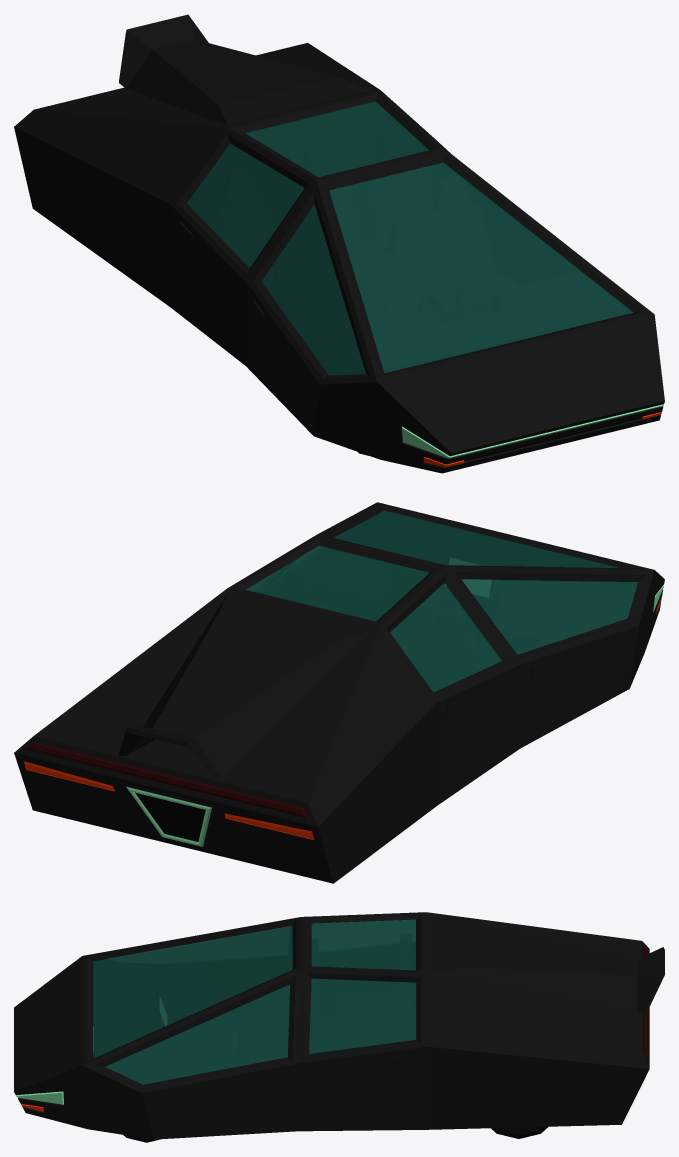
Rendered from SciFiCar_03.FBX.
3 renders of one model, top to bottom at view 1: azimuth 30°, elevation 25°; view 2: azimuth 150°, elevation 25°; view 3: azimuth 270°, elevation 25°, orthographic. The views are drawn at different scales.
Parts seen in each view (by area): view 1: SciFiCar_03, interior, seat_m-l, seat_m-r, seat_f, seat_b-r, seat_b-l, seat_b-m, headLights; view 2: SciFiCar_03, interior, seat_m-r, tailLights, seat_f, seat_m-l, backupLights, indicatorLights_r, indicatorLights_l, display; view 3: SciFiCar_03, interior, seat_f, seat_b-r, seat_b-m, seat_m-r, seat_b-l, wheel_b_l, headLights.
Boxes of the visible parts, <box> form: SciFiCar_03: <box>14,14,664,473</box>; interior: <box>187,102,632,375</box>; seat_m-l: <box>426,175,516,311</box>; seat_m-r: <box>273,214,350,333</box>; seat_f: <box>381,217,444,325</box>; seat_b-r: <box>215,164,276,292</box>; seat_b-l: <box>369,127,432,279</box>; seat_b-m: <box>292,145,381,294</box>; headLights: <box>402,404,663,458</box>; SciFiCar_03: <box>14,502,664,883</box>; interior: <box>246,511,637,691</box>; seat_m-r: <box>426,608,486,691</box>; tailLights: <box>26,742,308,818</box>; seat_f: <box>381,566,475,682</box>; seat_m-l: <box>276,570,326,608</box>; backupLights: <box>126,786,211,846</box>; indicatorLights_r: <box>224,598,661,840</box>; indicatorLights_l: <box>24,761,115,791</box>; display: <box>444,556,493,598</box>; SciFiCar_03: <box>14,912,664,1139</box>; interior: <box>94,920,415,1084</box>; seat_f: <box>194,969,266,1064</box>; seat_b-r: <box>338,934,410,1028</box>; seat_b-m: <box>338,964,410,1049</box>; seat_m-r: <box>245,939,317,1056</box>; seat_b-l: <box>388,994,410,1042</box>; wheel_b_l: <box>491,1126,548,1138</box>; headLights: <box>16,1091,63,1104</box>.
Size of the model in its own units: 31.25 by 17.85 by 68.25.
